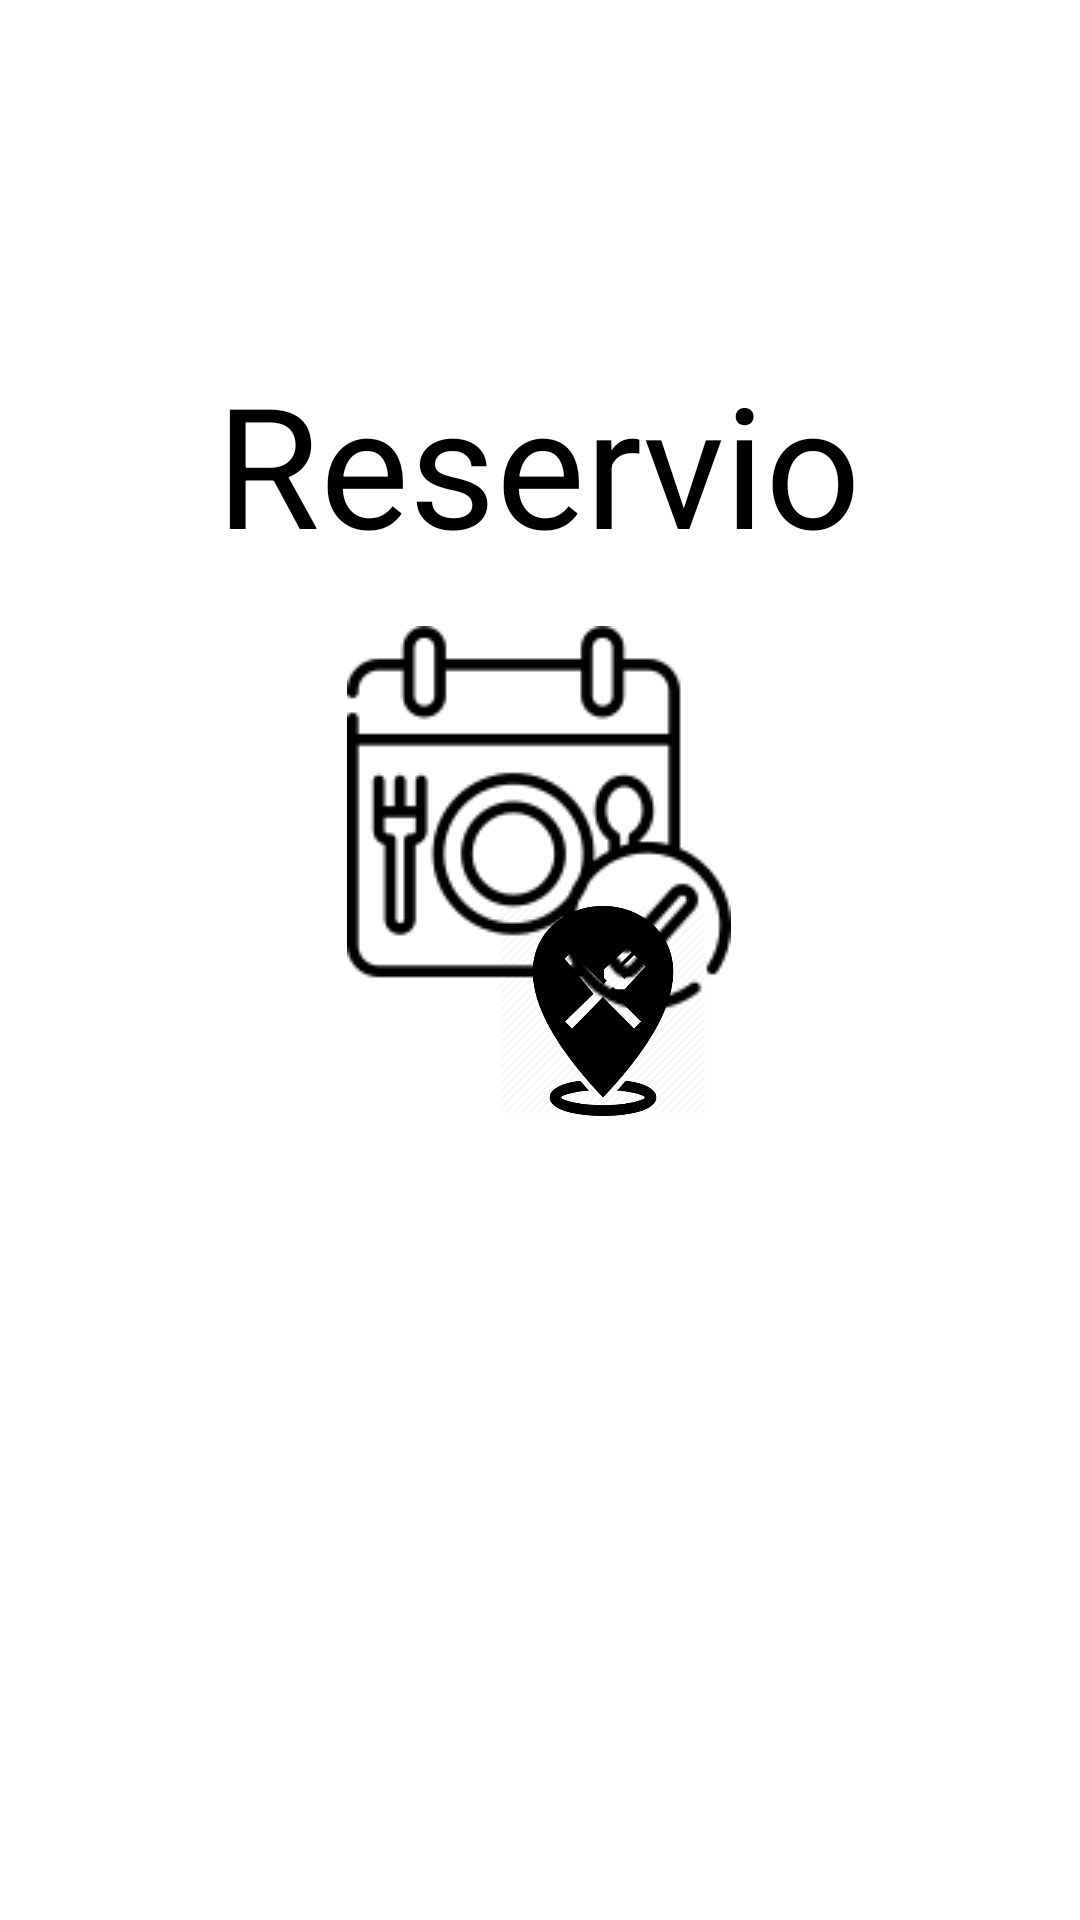

Icon bounding boxes for this 1080w x 1920h phone screenshot, format (x1, y1, x2, y2):
restaurantsnearme: (498, 906, 708, 1116)
